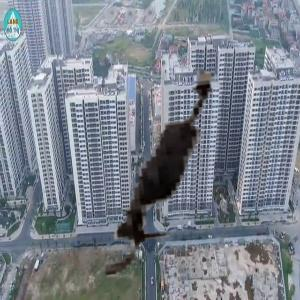drone: (40, 33, 297, 290)
